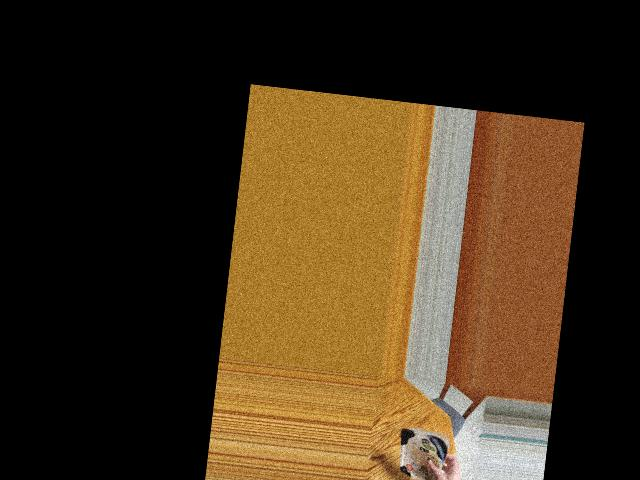cheese: (399, 423, 452, 480)
